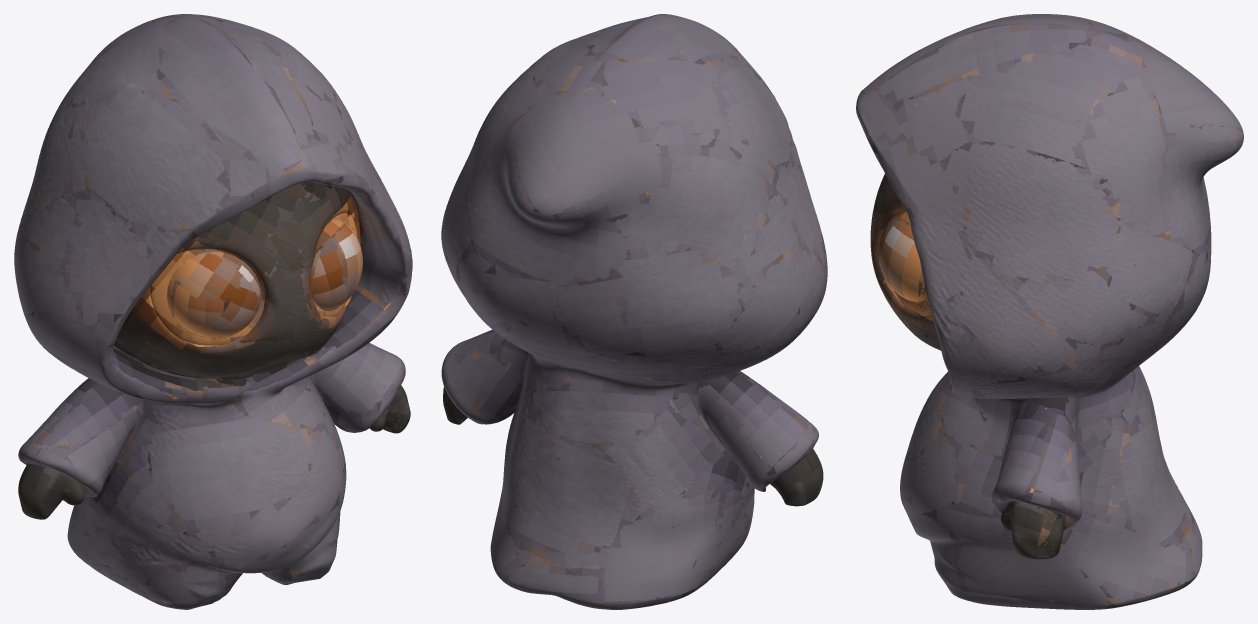
The model's file is stage_2.glb.
The picture shows the model from 3 angles, left to right: view 1: azimuth 30°, elevation 25°; view 2: azimuth 150°, elevation 25°; view 3: azimuth 270°, elevation 25°; orthographic projection. The views are drawn at different scales.
Parts seen in each view (by area): view 1: convert; view 2: convert; view 3: convert.
Boxes of the visible parts, x1,y1,x2,y2 form: convert: [14, 14, 412, 609]; convert: [441, 14, 827, 609]; convert: [856, 14, 1243, 609].
Size of the model in its own units: 0.8183 by 1.09 by 0.7083.
1 material, 1 textured.
